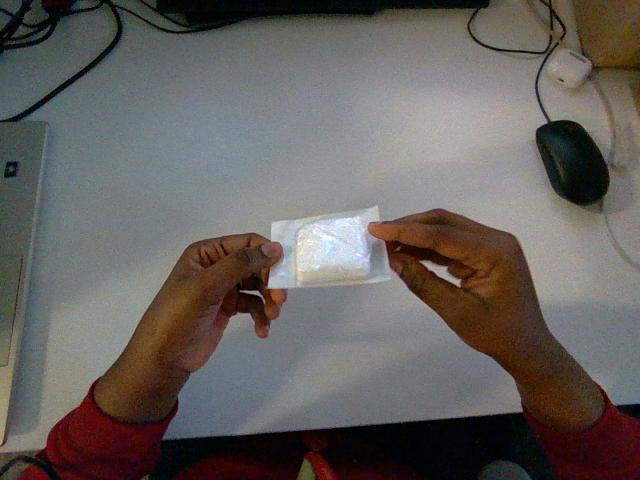gauze: (268, 206, 391, 288)
